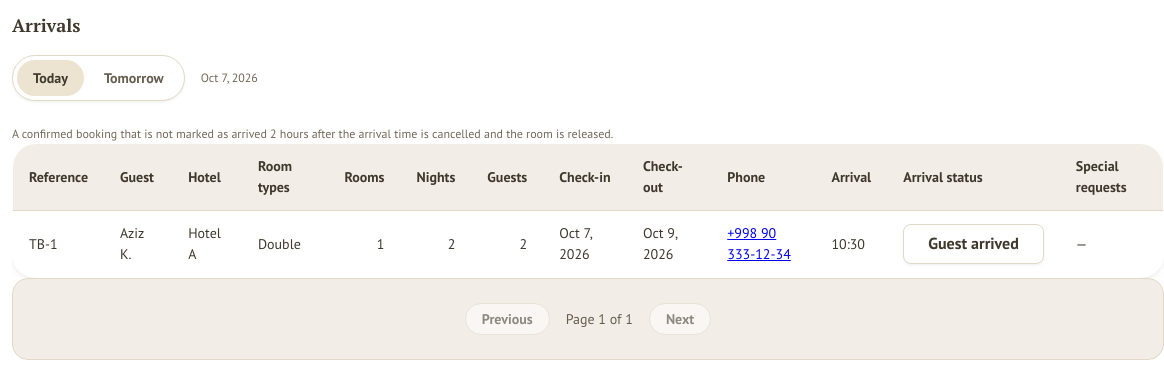
Test: PartnerArrivals: guest arrived › tomorrow's guests cannot be marked yet
Expected: the text "TB-1" is shown, left=12, top=210, right=104, bottom=278
Click the button "Tomorrow". click: (134, 78)
box: left=88, top=60, right=180, bottom=96
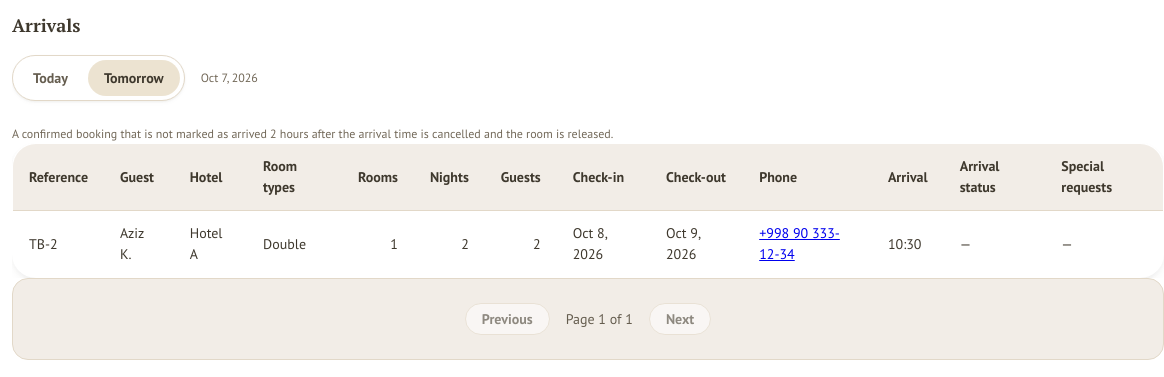
Now the text "TB-2" is shown, box left=12, top=210, right=104, bottom=278
Now the button "Guest arrived" is gone
